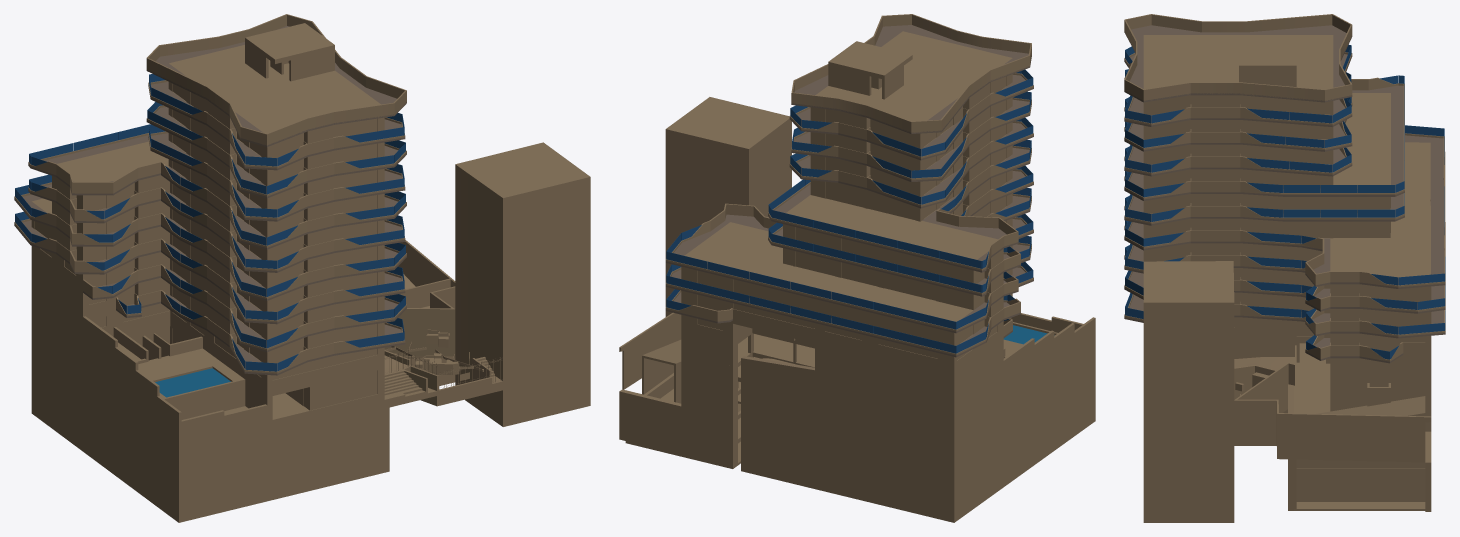
The model's file is sky34-viewer.glb.
The picture shows the model from 3 angles, left to right: view 1: azimuth 30°, elevation 25°; view 2: azimuth 150°, elevation 25°; view 3: azimuth 270°, elevation 25°; orthographic projection. The views are drawn at different scales.
Parts seen in each view (by area): view 1: Layer:WALL, Layer:BUILDING, Layer:EKS-STITHAIA, Layer:ARX-TOIXOS, Layer:EKS-GLASS, Layer:EKSWSTES, Layer:ROOFTOP, Layer:ERKER, Layer:KAITI3, Layer:KAITI1, Layer:KAITI2, Layer:POOL (+3 smaller); view 2: Layer:WALL, Layer:EKS-STITHAIA, Layer:ROOFTOP, Layer:EKS-GLASS, Layer:BUILDING, Layer:EKSWSTES, Layer:ARX-TOIXOS, Layer:KAITI3, Layer:ERKER, Layer:KAITI4, Layer:KAITI2, Layer:KAITI1; view 3: Layer:WALL, Layer:BUILDING, Layer:EKS-STITHAIA, Layer:ROOFTOP, Layer:EKSWSTES, Layer:EKS-GLASS, Layer:ARX-TOIXOS, Layer:ERKER, Layer:KAITI2, Layer:KAITI1, Layer:KAITI3.
Boxes of the visible parts, x1=… form: Layer:WALL: x1=31, y1=23, x2=455, y2=522; Layer:BUILDING: x1=455, y1=142, x2=590, y2=426; Layer:EKS-STITHAIA: x1=14, y1=14, x2=406, y2=373; Layer:ARX-TOIXOS: x1=83, y1=240, x2=502, y2=443; Layer:EKS-GLASS: x1=15, y1=74, x2=405, y2=371; Layer:EKSWSTES: x1=14, y1=26, x2=406, y2=375; Layer:ROOFTOP: x1=32, y1=45, x2=380, y2=213; Layer:ERKER: x1=57, y1=101, x2=333, y2=348; Layer:KAITI3: x1=123, y1=118, x2=377, y2=410; Layer:KAITI1: x1=88, y1=84, x2=309, y2=410; Layer:KAITI2: x1=35, y1=133, x2=303, y2=363; Layer:POOL: x1=155, y1=368, x2=230, y2=397; Layer:WALL: x1=619, y1=41, x2=1095, y2=522; Layer:EKS-STITHAIA: x1=665, y1=14, x2=1033, y2=355; Layer:ROOFTOP: x1=684, y1=31, x2=1012, y2=321; Layer:EKS-GLASS: x1=666, y1=69, x2=1033, y2=353; Layer:BUILDING: x1=665, y1=97, x2=791, y2=316; Layer:EKSWSTES: x1=665, y1=25, x2=1033, y2=357; Layer:ARX-TOIXOS: x1=619, y1=312, x2=1095, y2=412; Layer:KAITI3: x1=795, y1=119, x2=937, y2=358; Layer:ERKER: x1=839, y1=83, x2=1003, y2=317; Layer:KAITI4: x1=733, y1=249, x2=935, y2=328; Layer:KAITI2: x1=698, y1=109, x2=996, y2=360; Layer:KAITI1: x1=783, y1=76, x2=1006, y2=271; Layer:WALL: x1=1143, y1=37, x2=1431, y2=511; Layer:BUILDING: x1=1143, y1=261, x2=1234, y2=522; Layer:EKS-STITHAIA: x1=1124, y1=14, x2=1445, y2=361; Layer:ROOFTOP: x1=1143, y1=35, x2=1430, y2=278; Layer:EKSWSTES: x1=1124, y1=25, x2=1445, y2=363; Layer:EKS-GLASS: x1=1125, y1=45, x2=1445, y2=359; Layer:ARX-TOIXOS: x1=1234, y1=345, x2=1431, y2=462; Layer:ERKER: x1=1191, y1=95, x2=1359, y2=345; Layer:KAITI2: x1=1296, y1=100, x2=1425, y2=350; Layer:KAITI1: x1=1155, y1=97, x2=1367, y2=346; Layer:KAITI3: x1=1234, y1=197, x2=1390, y2=326.
Bounding box in the file's own units: 48.86 × 42.75 × 33.07.
